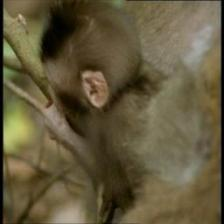monkey: (39, 44, 83, 134)
